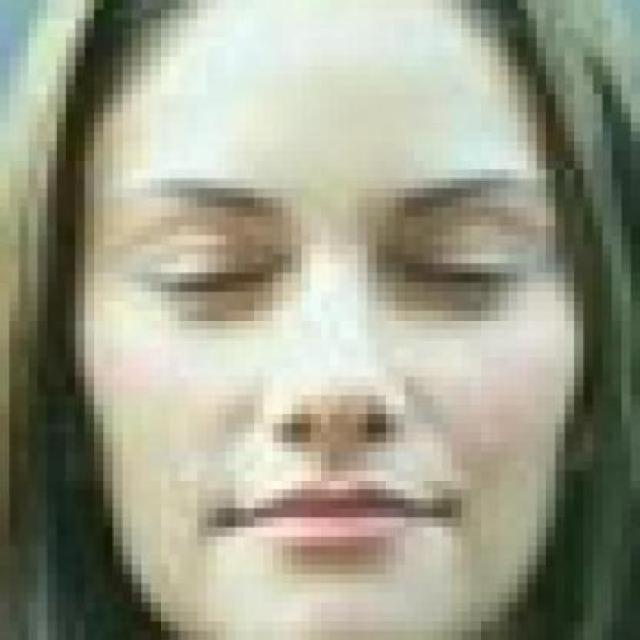drowsy: (407, 246, 515, 308), (162, 252, 262, 312)
